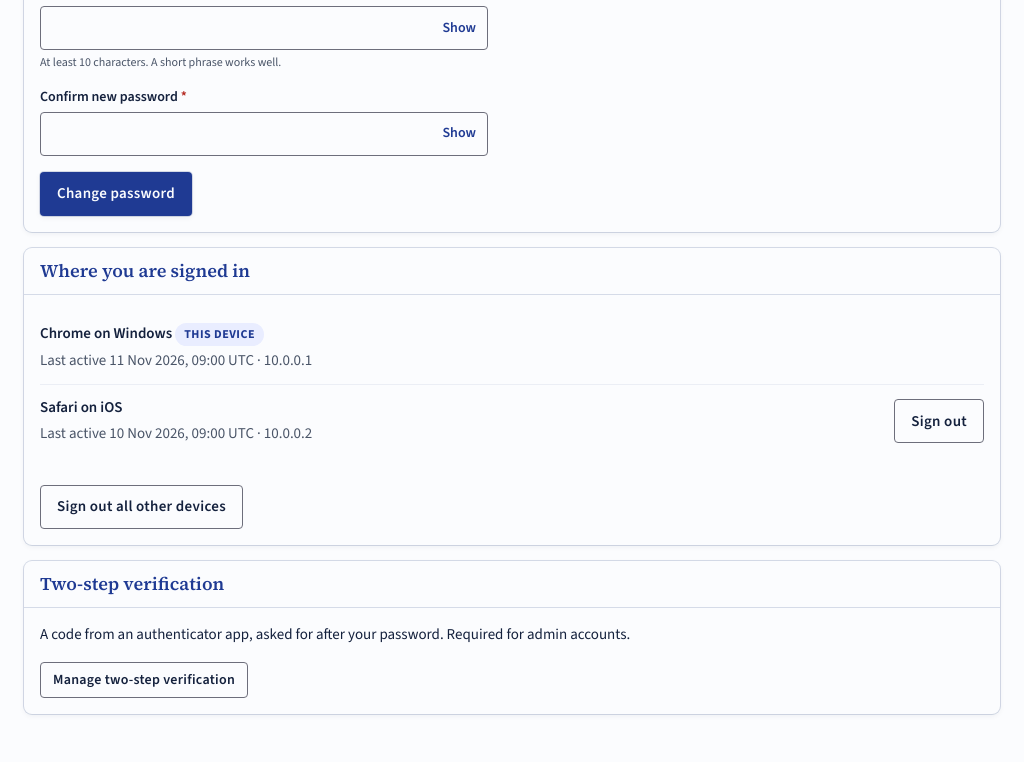
Test: AccountSettings › signs one device out, then reloads the list
(page scrolled)
Click the button with aria-label "Sign out Safari on iOS": (939, 421) [894, 399, 984, 443]
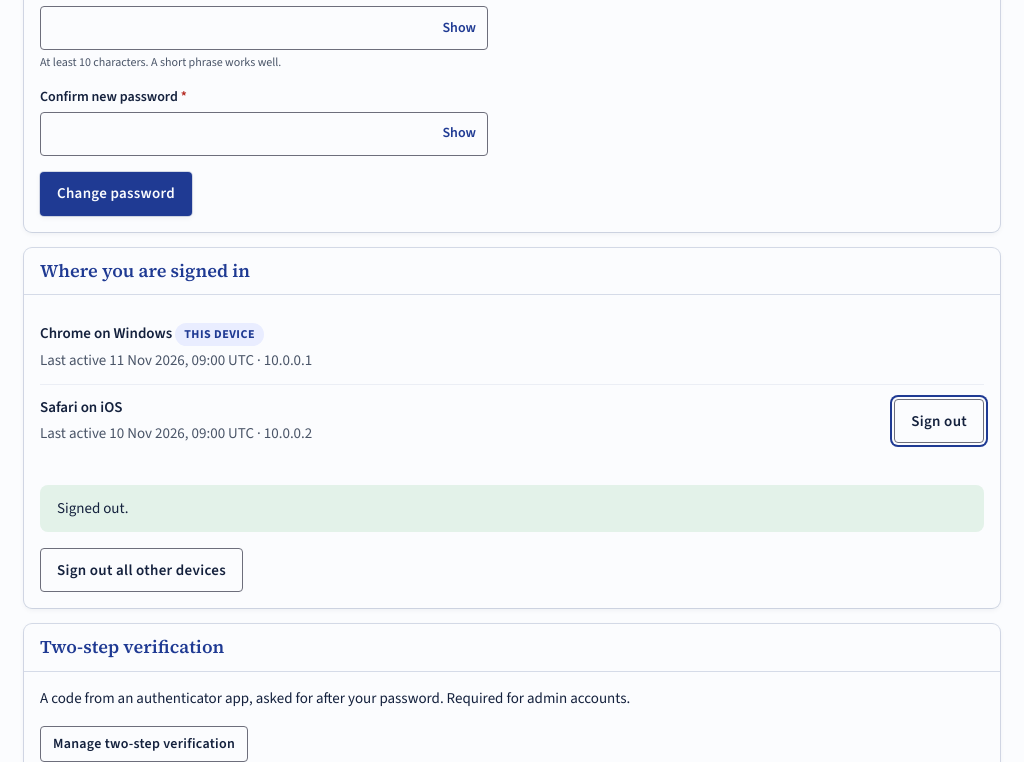
Expected: the text "Signed out." is shown, [57, 498, 128, 518]
